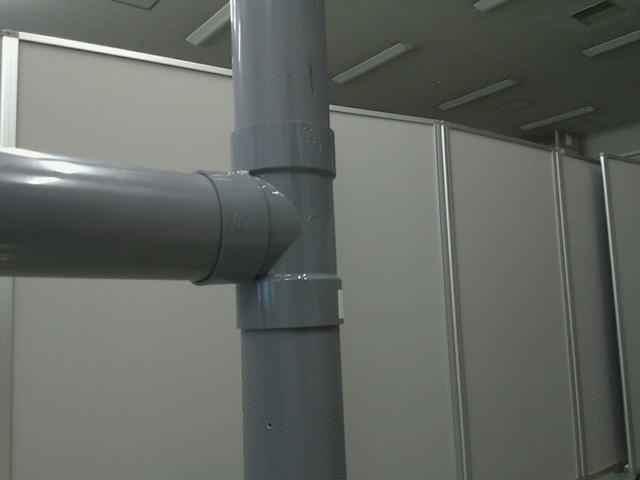junction: (198, 128, 351, 330)
